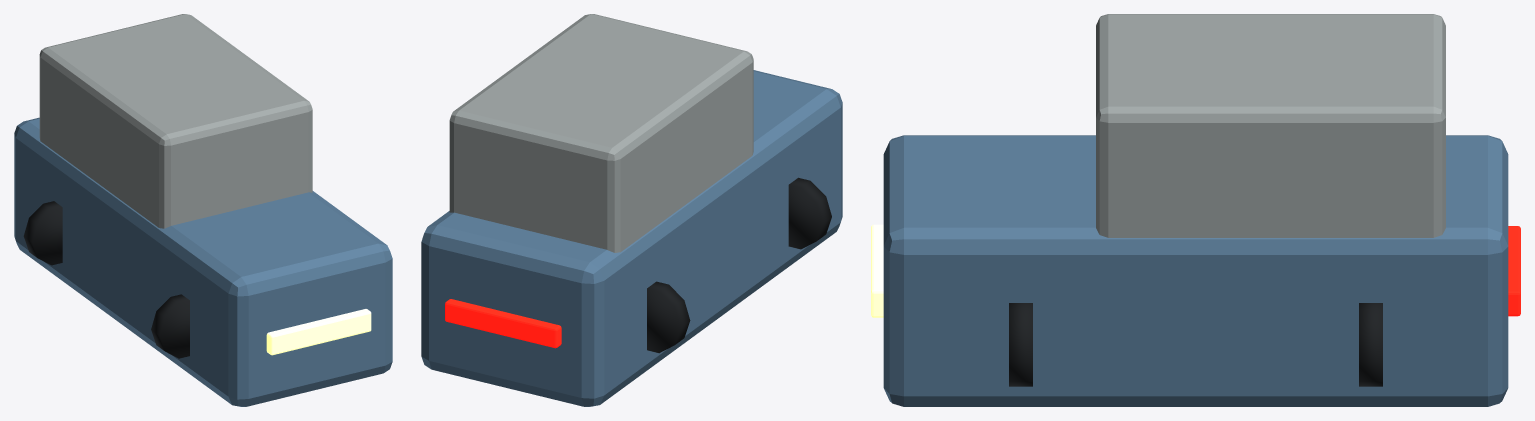
The model's file is truck_delivery.glb.
3 views of the same model, side by side, from view 1: azimuth 30°, elevation 25°; view 2: azimuth 150°, elevation 25°; view 3: azimuth 270°, elevation 25° (orthographic). The views are drawn at different scales.
Parts seen in each view (by area): view 1: vehicle_body, cargo_box, headlights, vehicle_wheel, vehicle_wheel.001; view 2: vehicle_body, cargo_box, taillights, vehicle_wheel.001, vehicle_wheel; view 3: vehicle_body, cargo_box, vehicle_wheel.002, vehicle_wheel.003, headlights, taillights.
Part boxes in pixels (x1,y1,x2,y2): vehicle_body: [14, 117, 392, 406]; cargo_box: [39, 14, 312, 228]; headlights: [266, 309, 371, 355]; vehicle_wheel: [23, 201, 62, 265]; vehicle_wheel.001: [151, 294, 189, 358]; vehicle_body: [421, 70, 842, 406]; cargo_box: [449, 14, 753, 252]; taillights: [445, 299, 561, 348]; vehicle_wheel.001: [788, 177, 831, 249]; vehicle_wheel: [647, 281, 690, 353]; vehicle_body: [883, 135, 1508, 406]; cargo_box: [1096, 14, 1445, 237]; vehicle_wheel.002: [1359, 303, 1382, 386]; vehicle_wheel.003: [1009, 303, 1032, 386]; headlights: [871, 224, 883, 317]; taillights: [1508, 226, 1520, 316].
Bounding box in the file's own units: 0.522 × 0.4872 × 0.957.
